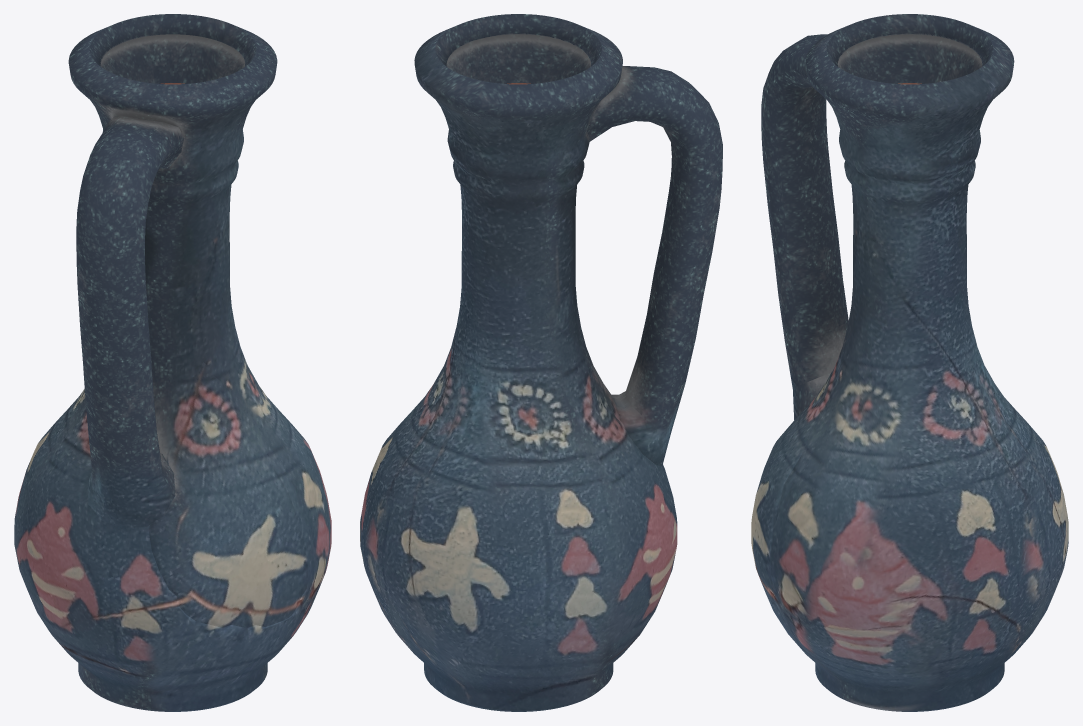
File: aggeio3.glb
3 renders of one model, left to right at view 1: azimuth 30°, elevation 25°; view 2: azimuth 150°, elevation 25°; view 3: azimuth 270°, elevation 25°, orthographic.
Visible parts, largest first — view 1: aggeio spasmeno mesa, aggeio kommati.001; view 2: aggeio spasmeno mesa; view 3: aggeio spasmeno mesa, aggeio kommati.001.
Part boxes in pixels (left/top/right/bottom): aggeio spasmeno mesa: left=14, top=14, right=331, bottom=711; aggeio kommati.001: left=148, top=362, right=307, bottom=627; aggeio spasmeno mesa: left=360, top=14, right=722, bottom=711; aggeio spasmeno mesa: left=761, top=14, right=1068, bottom=711; aggeio kommati.001: left=751, top=338, right=844, bottom=601.
Size of the model in its own units: 0.714 by 1.5 by 0.6908.
1 material, 1 textured.
